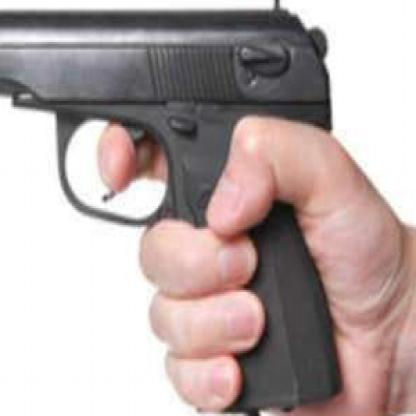gun: (0, 0, 348, 414)
